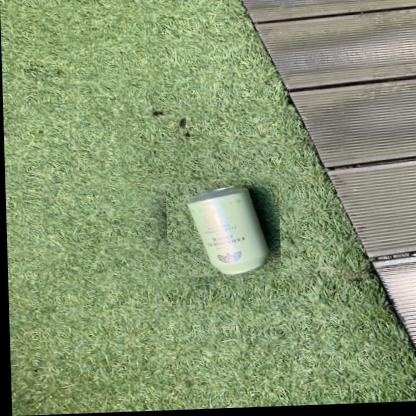trash: (188, 187, 267, 274)
